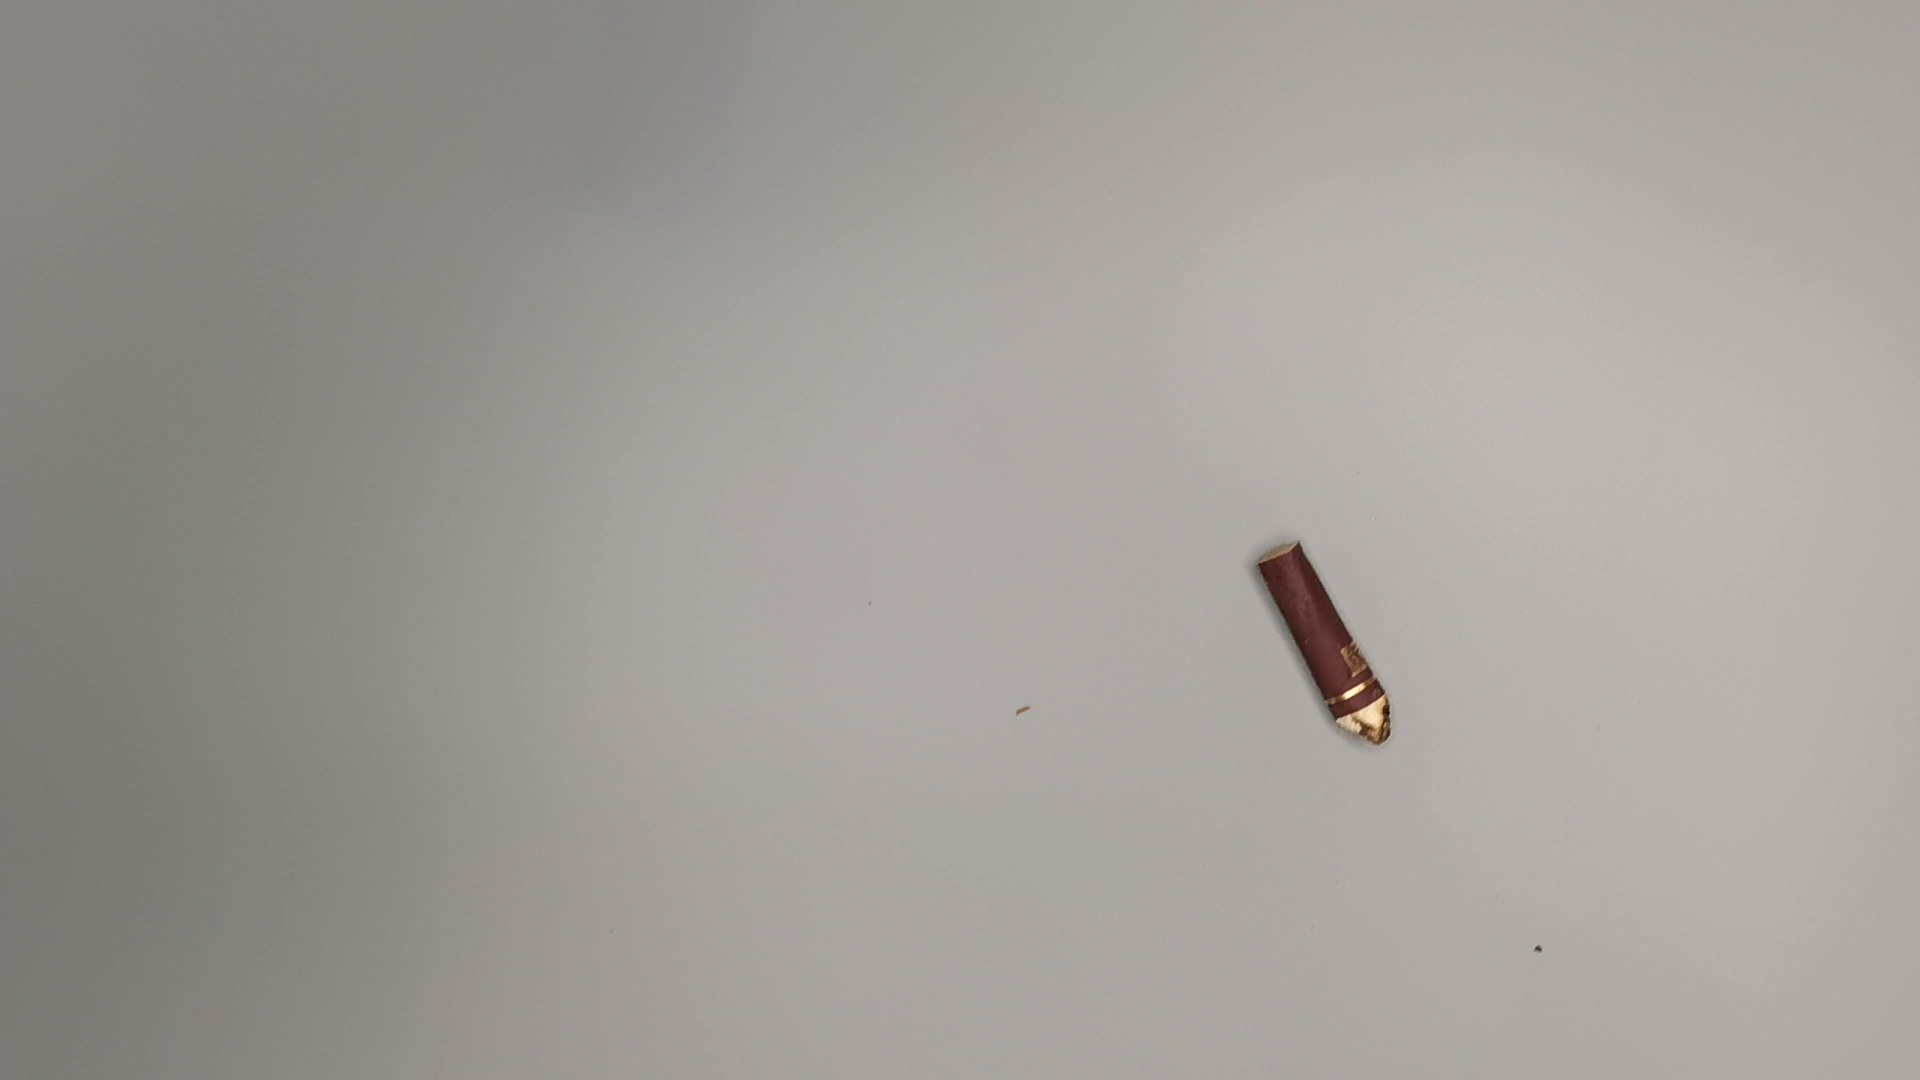cigarette: (1255, 531, 1407, 758)
